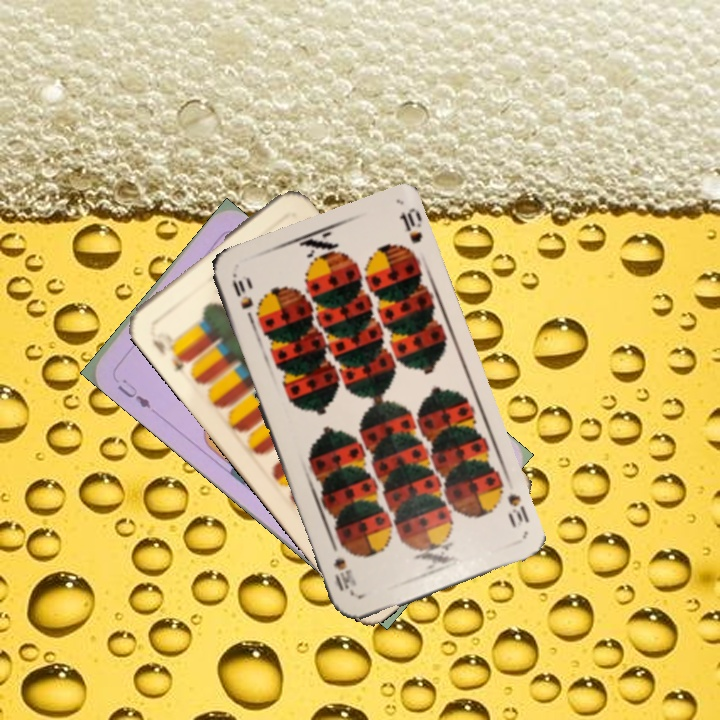E10: (148, 335, 192, 375)
EU: (113, 374, 154, 411)
S10: (228, 269, 257, 326), (503, 489, 532, 531)
